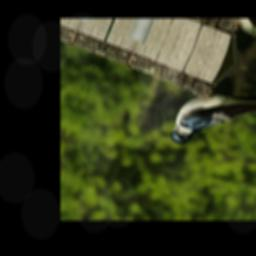Swallow: (166, 66, 256, 172)
